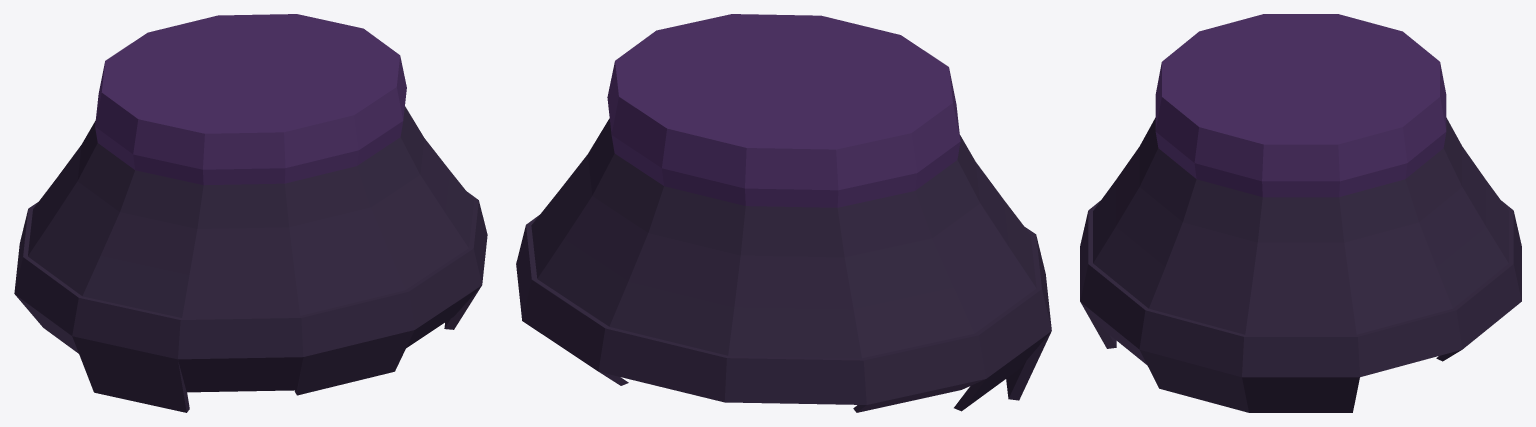
The model's file is Witch_Skirt_own.gltf.
3 views of the same model, side by side, from view 1: azimuth 30°, elevation 25°; view 2: azimuth 150°, elevation 25°; view 3: azimuth 270°, elevation 25° (orthographic). The views are drawn at different scales.
Parts seen in each view (by area): view 1: Witch_Skirt_own; view 2: Witch_Skirt_own; view 3: Witch_Skirt_own.
Boxes of the visible parts, x1,y1,x2,y2 form: Witch_Skirt_own: [14, 14, 487, 412]; Witch_Skirt_own: [516, 14, 1051, 412]; Witch_Skirt_own: [1080, 14, 1521, 412].
Size of the model in its own units: 0.6801 by 0.4 by 0.6133.
